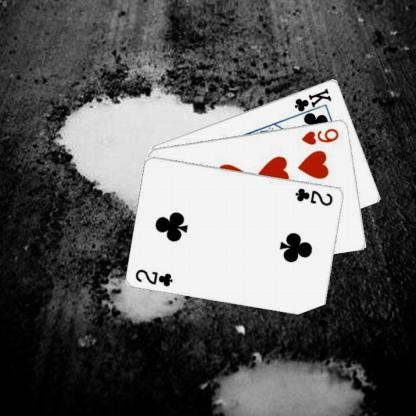2C: (293, 185, 334, 207), (133, 266, 174, 288)
9H: (299, 125, 341, 146)
KC: (292, 86, 333, 118)
